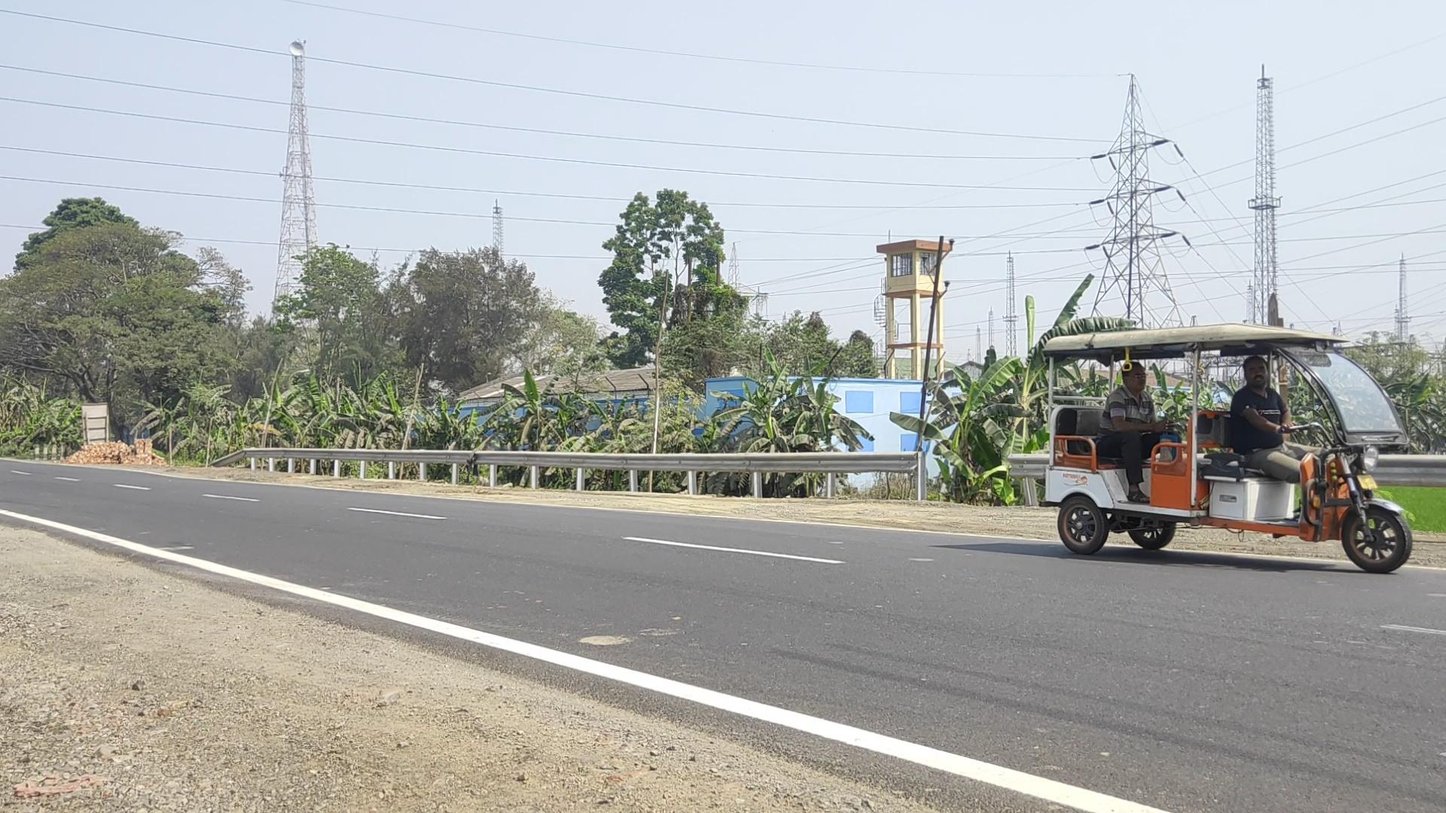Auto: (1042, 322, 1413, 573)
